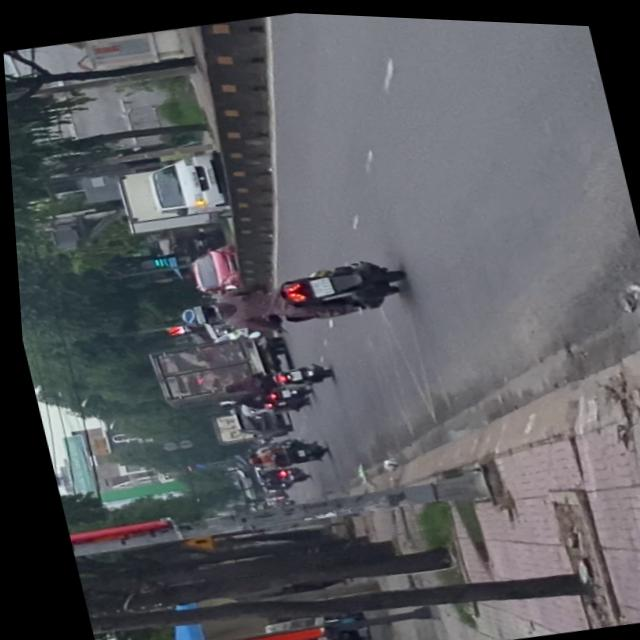helmet: (172, 298, 215, 326)
licenseplate: (164, 243, 407, 346)
nohelmet: (302, 273, 330, 296)
